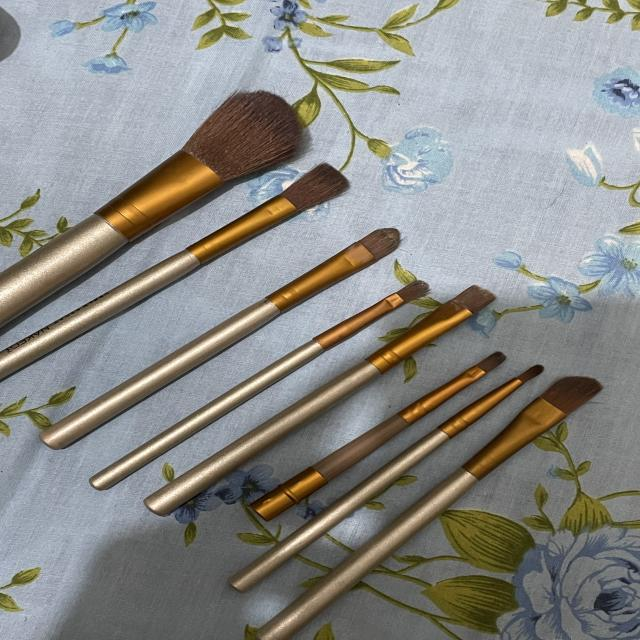brush: (1, 73, 614, 640), (150, 76, 313, 175), (232, 155, 369, 236), (530, 361, 614, 438), (316, 208, 417, 266), (439, 275, 524, 320), (484, 354, 558, 402), (367, 272, 443, 318), (452, 345, 521, 382)
